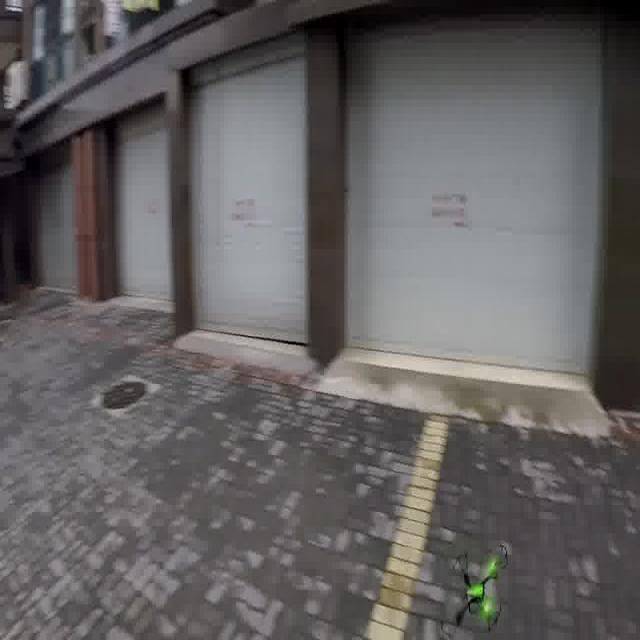drone: (437, 527, 519, 639)
